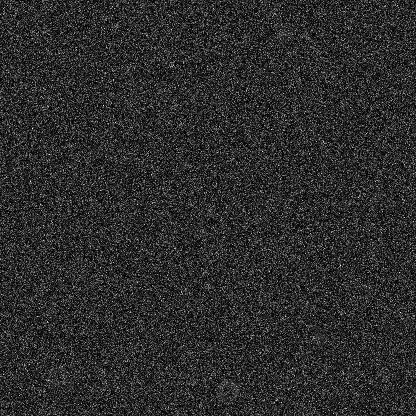Ring: (23, 81, 47, 105), (216, 379, 240, 403), (45, 364, 69, 388)
Spot: (311, 328, 327, 344), (68, 253, 84, 269), (368, 189, 384, 205), (274, 26, 290, 42)
